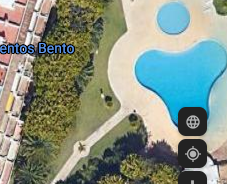pool: (143, 10, 217, 103)
